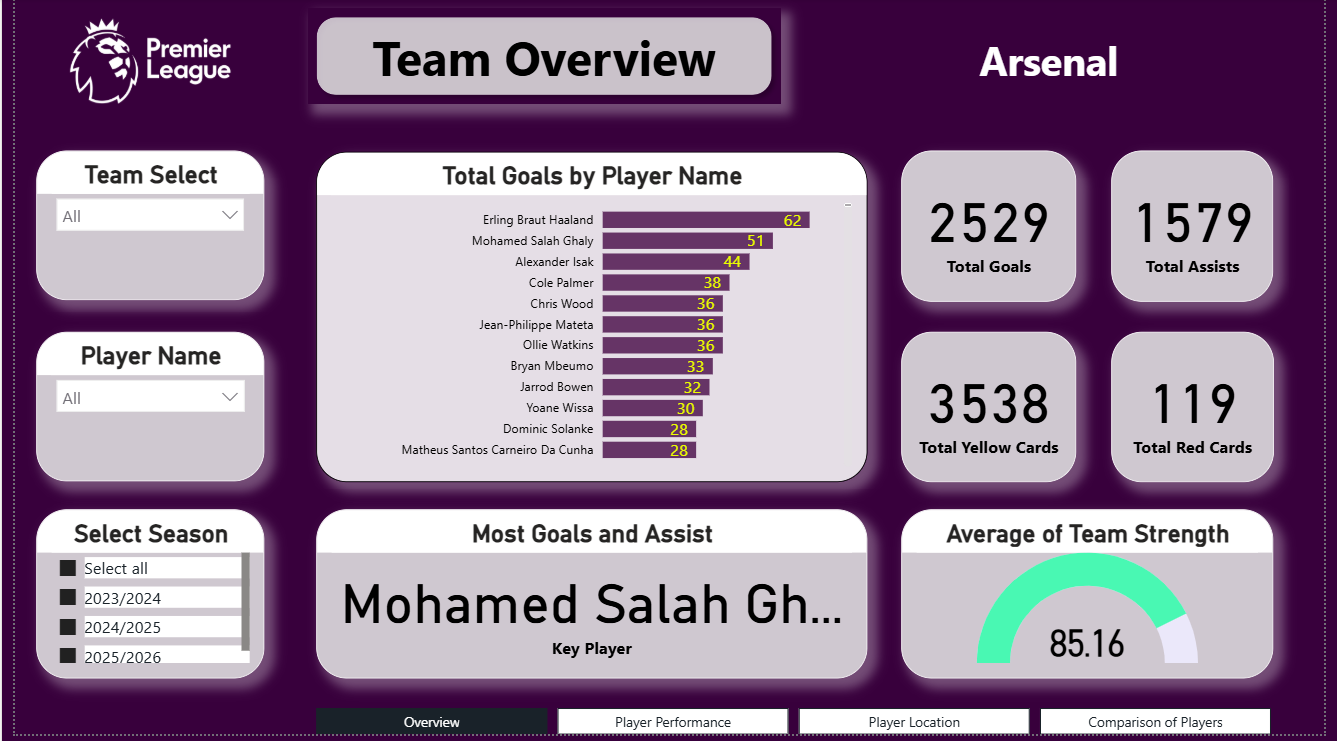

Layout of this report page (visuals, bound fields, positions):
{"tool":"powerbi","page":{"name":"Overview","canvas":[1280,720],"ordinal":0},"visuals":[{"type":"card","fields":{"Values":["Sum(Fact_Player_performance.Total Assists)"]},"box":[1071.9,149.8,158.5,147.8],"z":0},{"type":"card","fields":{"Values":["Sum(Fact_Player_performance.Total Red Cards)"]},"box":[1072,326,159,147],"z":1000},{"type":"card","fields":{"Values":["Sum(Fact_Player_performance.Total Yellow Cards*)"]},"box":[866.9,326,171,147],"z":2000},{"type":"card","fields":{"Values":["Sum(Fact_Player_performance.Total Goals)"]},"box":[866.6,149.8,171.2,147.8],"z":3000},{"type":"barChart","fields":{"Category":["Dim_player.Player Name"],"Y":["Sum(Fact_Player_performance.Total Goals)"]},"box":[295,150,539,323],"z":4000},{"type":"gauge","fields":{"Y":["Avg(Dim_TeamSeason.Team Strength)"]},"box":[866.6,500,363.8,165.3],"z":5000},{"type":"card","title":"Most Goals and Assist","fields":{"Values":["Dim_player.Key Player"]},"box":[294.7,500,538.8,165.3],"z":6000},{"type":"image","box":[20.4,9.7,223.7,104.1],"z":7000},{"type":"slicer","title":"Team Select","fields":{"Values":["Dim_TeamSeason.Club Name"]},"box":[21.2,149.6,223.3,146.5],"z":8000},{"type":"slicer","title":"Select Season","fields":{"Values":["Dim_TeamSeason.Season"]},"box":[21.2,500.2,223.3,165.7],"z":9000},{"type":"card","fields":{"Values":["Min(Dim_TeamSeason.Club Name)"]},"box":[741.7,21.2,538.6,79.8],"z":10000},{"type":"shape","box":[286,10,463,94],"z":11000},{"type":"pageNavigator","box":[295,694,935,26],"z":12000},{"type":"slicer","title":"Player Name","fields":{"Values":["Dim_player.Player Name"]},"box":[20.9,326.5,223.4,146.1],"z":13000}]}

Visuals, with their boxes in screenshot pixels (x1, y1, x2, y2), scaled from the page's 1280x720 canvas onto the 1337x741 screenshot:
card - Sum(Fact_Player_performance.Total Assists): box(1120, 154, 1285, 306)
card - Sum(Fact_Player_performance.Total Red Cards): box(1120, 336, 1286, 487)
card - Sum(Fact_Player_performance.Total Yellow Cards*): box(906, 336, 1084, 487)
card - Sum(Fact_Player_performance.Total Goals): box(905, 154, 1084, 306)
barChart - Dim_player.Player Name x Sum(Fact_Player_performance.Total Goals): box(308, 154, 871, 487)
gauge - Avg(Dim_TeamSeason.Team Strength): box(905, 515, 1285, 685)
"Most Goals and Assist" card: box(308, 515, 871, 685)
image: box(21, 10, 255, 117)
"Team Select" slicer: box(22, 154, 255, 305)
"Select Season" slicer: box(22, 515, 255, 685)
card - Min(Dim_TeamSeason.Club Name): box(775, 22, 1336, 104)
shape: box(299, 10, 782, 107)
pageNavigator: box(308, 714, 1285, 740)
"Player Name" slicer: box(22, 336, 255, 486)
